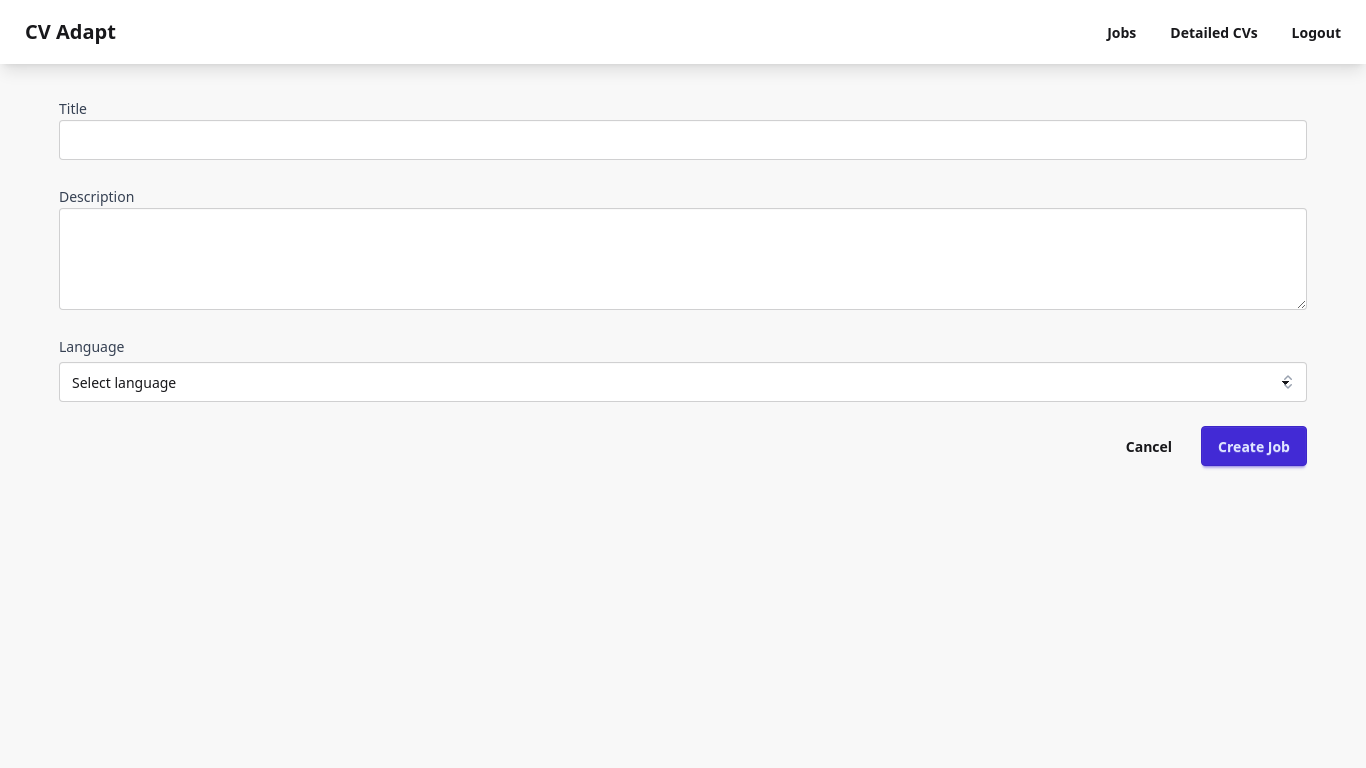
Scenario: Job Form Operations › should handle form validation errors
Expected: the form is shown, left=59, top=96, right=1307, bottom=466
Note: Submit empty form
Step 1. Click the button "Create Job" → [1254, 446], box left=1201, top=426, right=1307, bottom=466
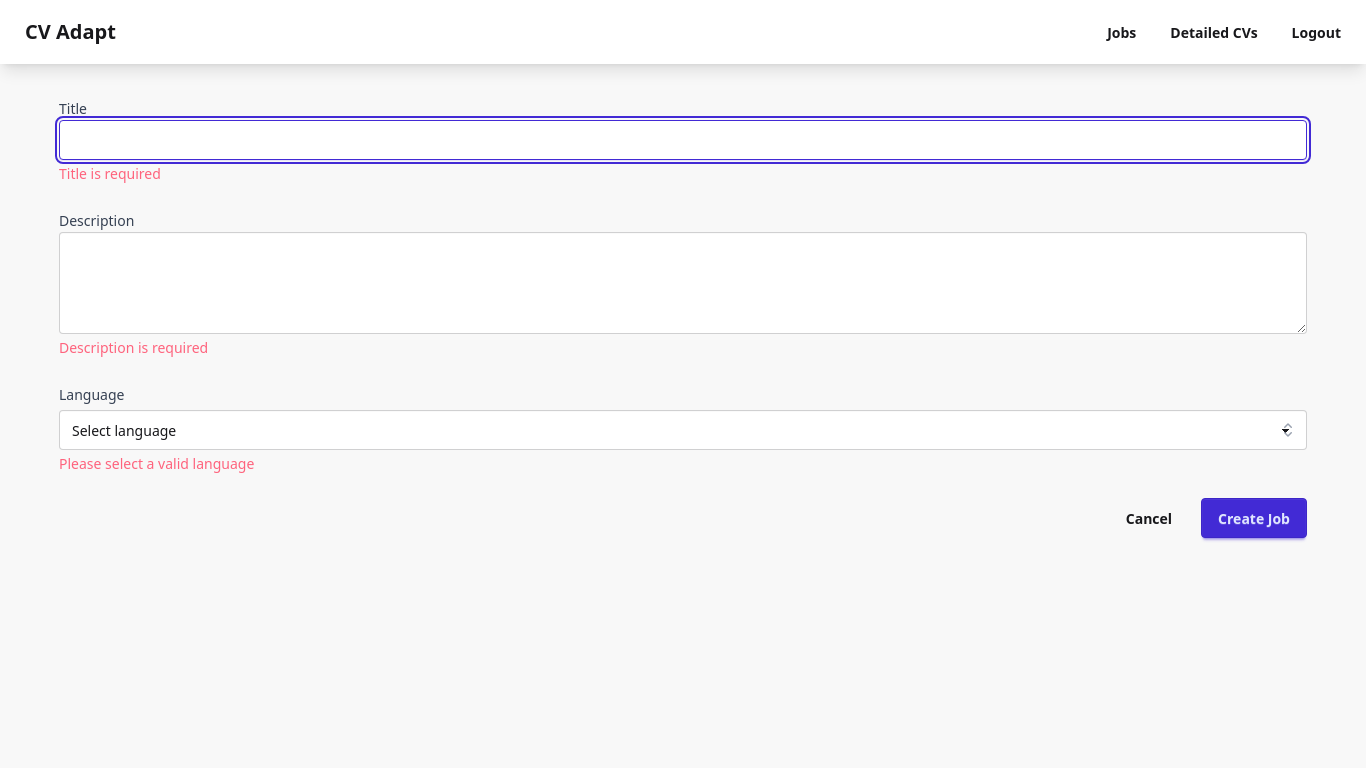
Now the number of messages is 3, box left=59, top=164, right=161, bottom=183; left=59, top=338, right=208, bottom=357; left=59, top=454, right=254, bottom=473
Now the text "Title is required" is shown, box left=59, top=164, right=161, bottom=183
Now the text "Description is required" is shown, box left=59, top=338, right=208, bottom=357
